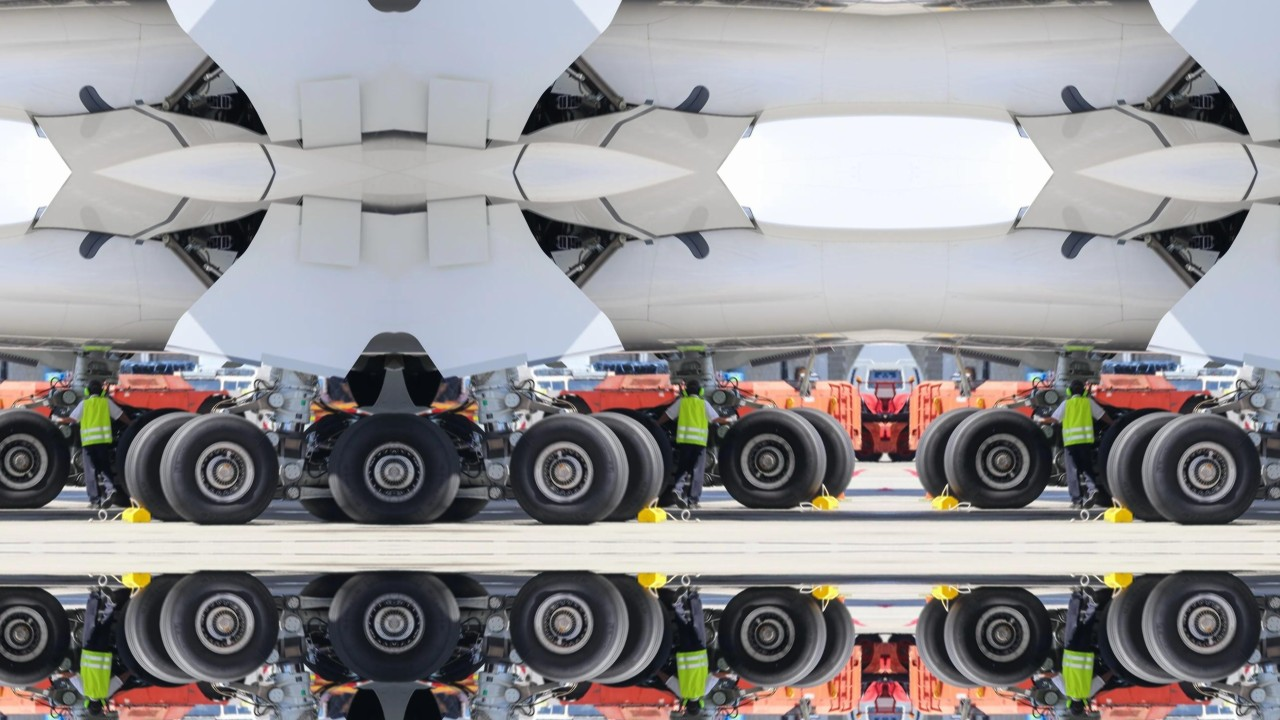chock: (119, 504, 151, 524), (637, 504, 669, 524), (1102, 504, 1134, 524), (119, 572, 151, 592), (637, 572, 669, 592), (1102, 572, 1134, 592), (811, 584, 840, 601), (931, 584, 960, 601), (811, 495, 840, 511), (931, 495, 960, 511)
wheel: (1136, 411, 1261, 523), (1136, 573, 1261, 685), (154, 411, 278, 523), (510, 411, 634, 523), (154, 573, 278, 685), (510, 573, 634, 685), (717, 588, 827, 690), (944, 588, 1053, 690), (717, 406, 827, 507), (944, 406, 1053, 507), (121, 576, 210, 686), (578, 576, 667, 686), (1104, 576, 1193, 686), (121, 411, 210, 520), (578, 411, 667, 520), (1104, 411, 1193, 520), (298, 412, 370, 522), (418, 412, 490, 522), (298, 575, 370, 685), (418, 575, 490, 685), (324, 413, 394, 521), (394, 413, 464, 521), (324, 575, 394, 683), (394, 575, 464, 683), (0, 588, 70, 690), (0, 406, 70, 507), (914, 407, 987, 502), (914, 594, 987, 689), (784, 407, 856, 502), (784, 594, 856, 689), (195, 394, 237, 416), (551, 394, 593, 416), (856, 428, 884, 461), (1178, 394, 1220, 416), (888, 428, 916, 461), (195, 680, 237, 702), (551, 680, 593, 702), (856, 635, 884, 668), (1178, 680, 1220, 702), (888, 635, 916, 668)
